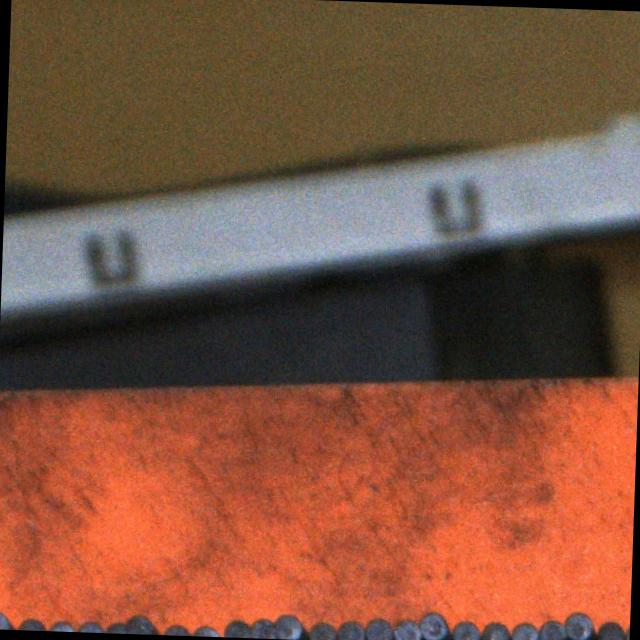tool: (564, 609, 594, 640), (419, 610, 449, 640), (275, 612, 303, 640), (363, 616, 392, 640), (334, 618, 363, 640), (392, 618, 421, 640), (538, 618, 565, 640), (250, 616, 276, 638), (453, 620, 481, 640), (309, 620, 337, 640), (597, 620, 625, 640), (223, 618, 251, 638), (509, 621, 537, 640), (482, 621, 510, 640), (15, 616, 44, 630), (190, 622, 219, 636), (48, 618, 76, 632), (77, 618, 104, 632), (161, 622, 188, 636), (103, 620, 126, 634), (0, 609, 11, 629), (623, 623, 629, 640)
